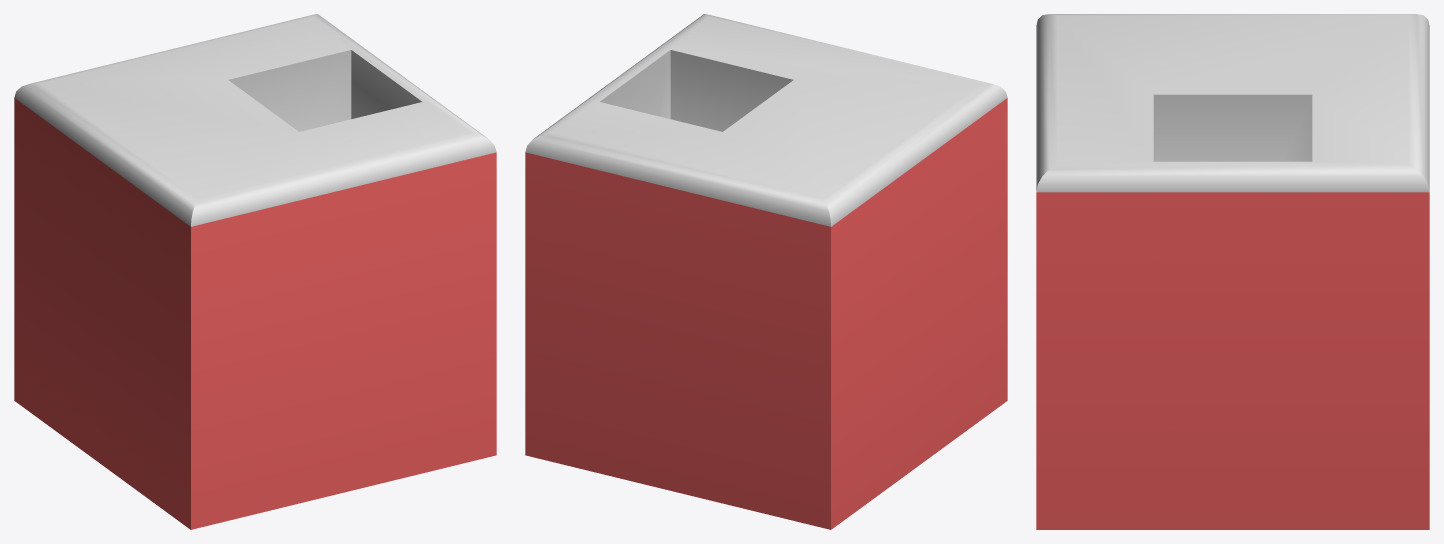
File: CubeForTile_04.1_Hole_2_Side.fbx
The picture shows the model from 3 angles, left to right: view 1: azimuth 30°, elevation 25°; view 2: azimuth 150°, elevation 25°; view 3: azimuth 270°, elevation 25°; orthographic projection. The views are drawn at different scales.
Visible parts, largest first — view 1: CubeForTile_04.1_Hole; view 2: CubeForTile_04.1_Hole; view 3: CubeForTile_04.1_Hole.
Boxes of the visible parts, x1,y1,x2,y2 form: CubeForTile_04.1_Hole: [14, 14, 496, 529]; CubeForTile_04.1_Hole: [525, 14, 1007, 529]; CubeForTile_04.1_Hole: [1036, 14, 1429, 529].
Bounding box in the file's own units: 1000 × 1000 × 1000.
